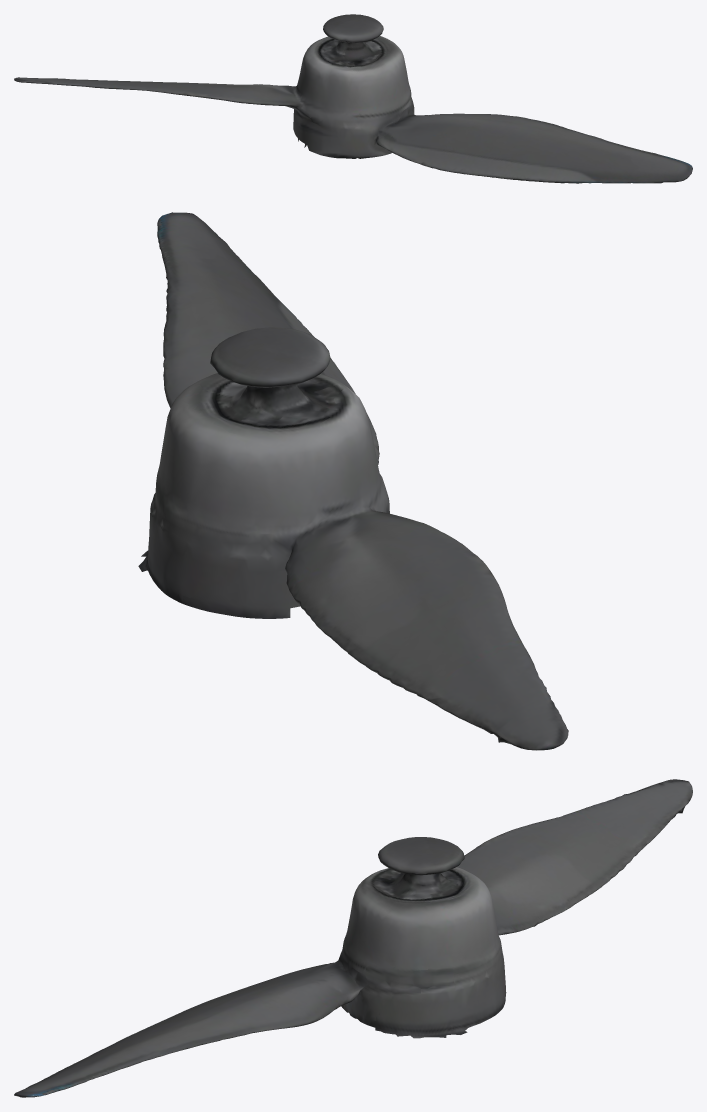
File: prop_01.glb
3 renders of one model, top to bottom at view 1: azimuth 30°, elevation 25°; view 2: azimuth 150°, elevation 25°; view 3: azimuth 270°, elevation 25°, orthographic. The views are drawn at different scales.
Visible parts, largest first — view 1: Mesh_0; view 2: Mesh_0; view 3: Mesh_0.
Part boxes in pixels (x1,y1,x2,y2): Mesh_0: [14, 14, 692, 183]; Mesh_0: [138, 212, 568, 750]; Mesh_0: [14, 779, 692, 1097].
Bounding box in the file's own units: 0.7338 × 0.1801 × 0.7211.
Materials: 1 (1 with a texture image).
